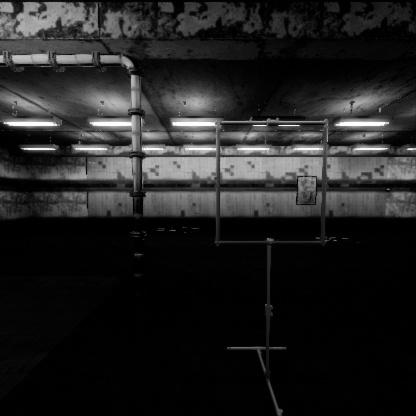gate: (216, 170, 338, 295)
